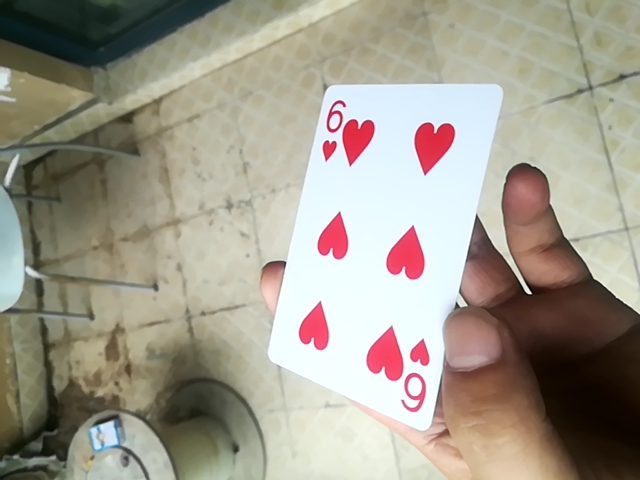hx 6: (279, 86, 509, 435)
